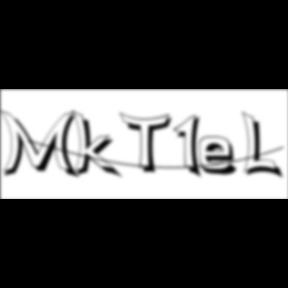1: (174, 114, 208, 182)
L: (242, 110, 286, 182)
M: (1, 108, 84, 181)
T: (120, 112, 178, 176)
e: (199, 135, 245, 178)
k: (72, 108, 124, 181)
